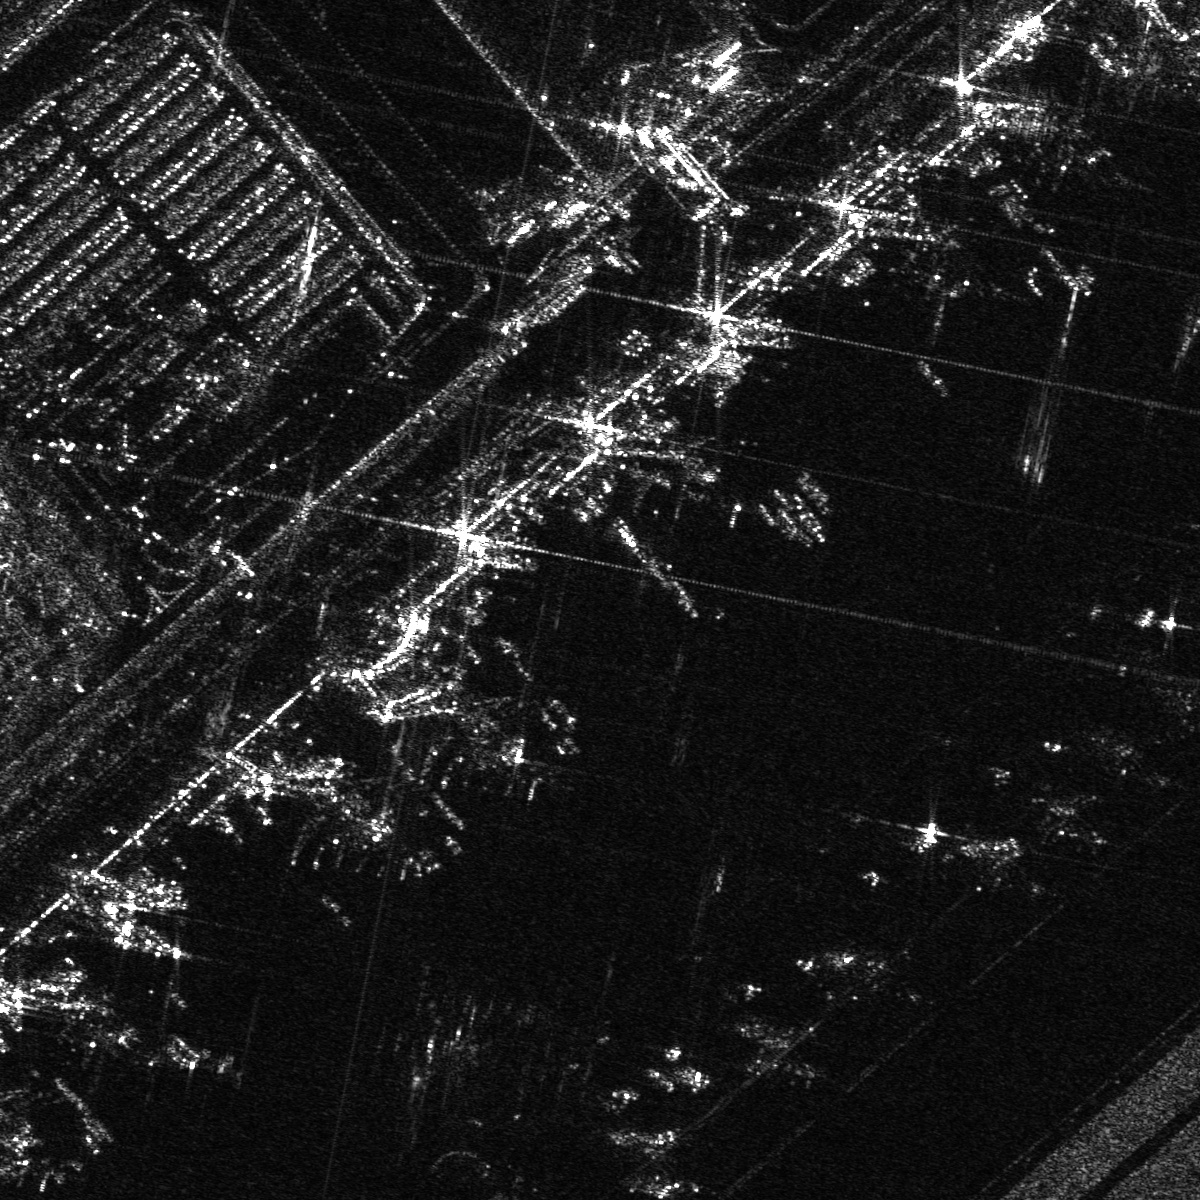A330: (662, 434, 758, 529)
Boeing737: (281, 775, 419, 873), (421, 693, 534, 776), (735, 1002, 831, 1088), (833, 943, 931, 1011), (959, 833, 1052, 901), (1095, 727, 1175, 793), (1037, 791, 1111, 852), (1159, 673, 1199, 755)
